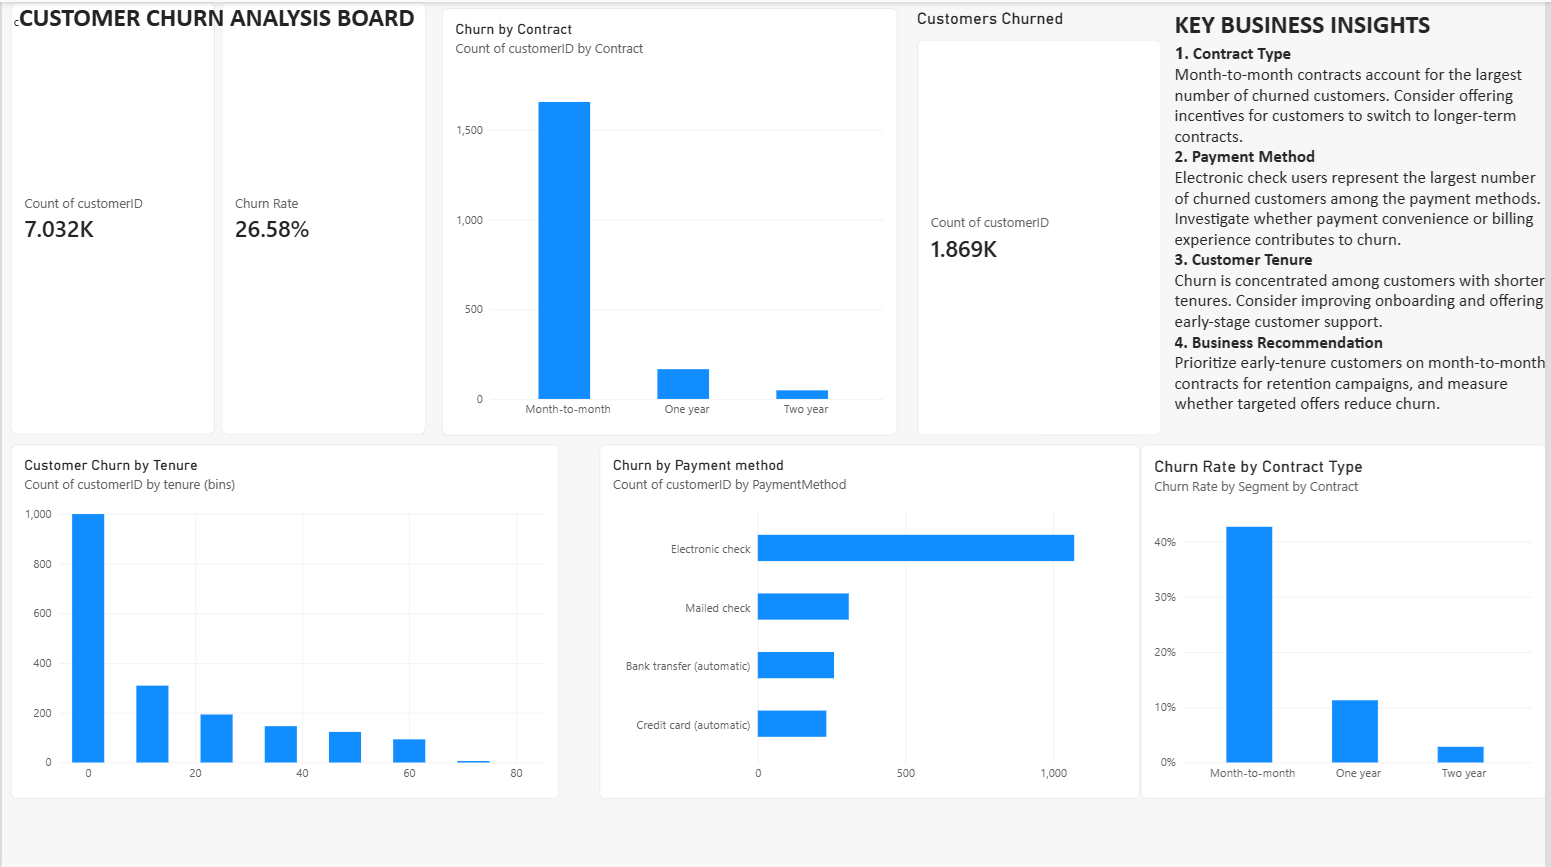

What the dashboard file says about the page in this screenshot:
{"tool":"powerbi","page":{"name":"Page 1","canvas":[1920,1080],"ordinal":0},"visuals":[{"type":"cardVisual","fields":{"Data":["Count(customer_churn_cleaned.customerID)","customer_churn_cleaned.Churn Rate"]},"box":[10.4,0,516.7,538.9],"z":0},{"type":"clusteredColumnChart","title":"Churn by Contract","fields":{"Category":["customer_churn_cleaned.Contract"],"Y":["CountNonNull(customer_churn_cleaned.customerID)"]},"box":[547.5,8.2,566,531],"z":1000},{"type":"clusteredColumnChart","title":"Customer Churn by Tenure","fields":{"Category":["customer_churn_cleaned.tenure (bins)"],"Y":["CountNonNull(customer_churn_cleaned.customerID)"]},"box":[10.9,550,681.2,440.6],"z":2000},{"type":"cardVisual","title":"Customers Churned","fields":{"Data":["CountNonNull(customer_churn_cleaned.customerID)"]},"box":[1138.5,8.3,304.4,531.7],"z":3000},{"type":"clusteredBarChart","title":"Churn by Payment method","fields":{"Category":["customer_churn_cleaned.PaymentMethod"],"Y":["CountNonNull(customer_churn_cleaned.customerID)"]},"box":[743.8,550,671.9,440.6],"z":4000},{"type":"textbox","box":[0,0,527.5,93.8],"z":5000},{"type":"textbox","box":[1457.5,8.3,408.7,39.6],"z":6000},{"type":"textbox","box":[1457.8,48.4,462.5,475],"z":7000},{"type":"clusteredColumnChart","title":"Churn Rate by Contract Type","fields":{"Category":["customer_churn_cleaned.Contract"],"Y":["customer_churn_cleaned.Churn Rate by Segment"]},"box":[1415.6,550,504.7,440.6],"z":8000}]}

Visuals, with their boxes in screenshot pixels (x1, y1, x2, y2), scaled from the page's 1920x1080 canvas onto the 1551x867 screenshot:
cardVisual - Count(customer_churn_cleaned.customerID) x customer_churn_cleaned.Churn Rate: [8,0,426,433]
"Churn by Contract" clusteredColumnChart: [442,7,899,433]
"Customer Churn by Tenure" clusteredColumnChart: [9,442,559,795]
"Customers Churned" cardVisual: [920,7,1166,434]
"Churn by Payment method" clusteredBarChart: [601,442,1144,795]
textbox: [0,0,426,75]
textbox: [1177,7,1508,38]
textbox: [1178,39,1550,420]
"Churn Rate by Contract Type" clusteredColumnChart: [1144,442,1550,795]
